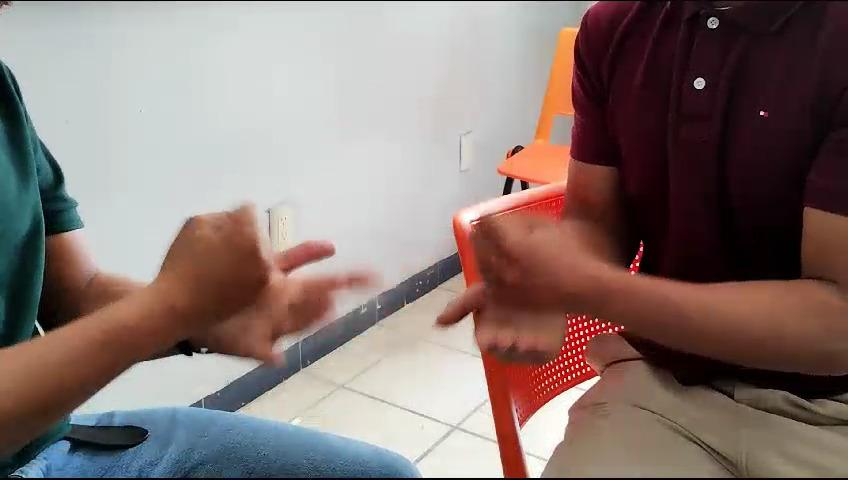Stone: (44, 170, 323, 357)
